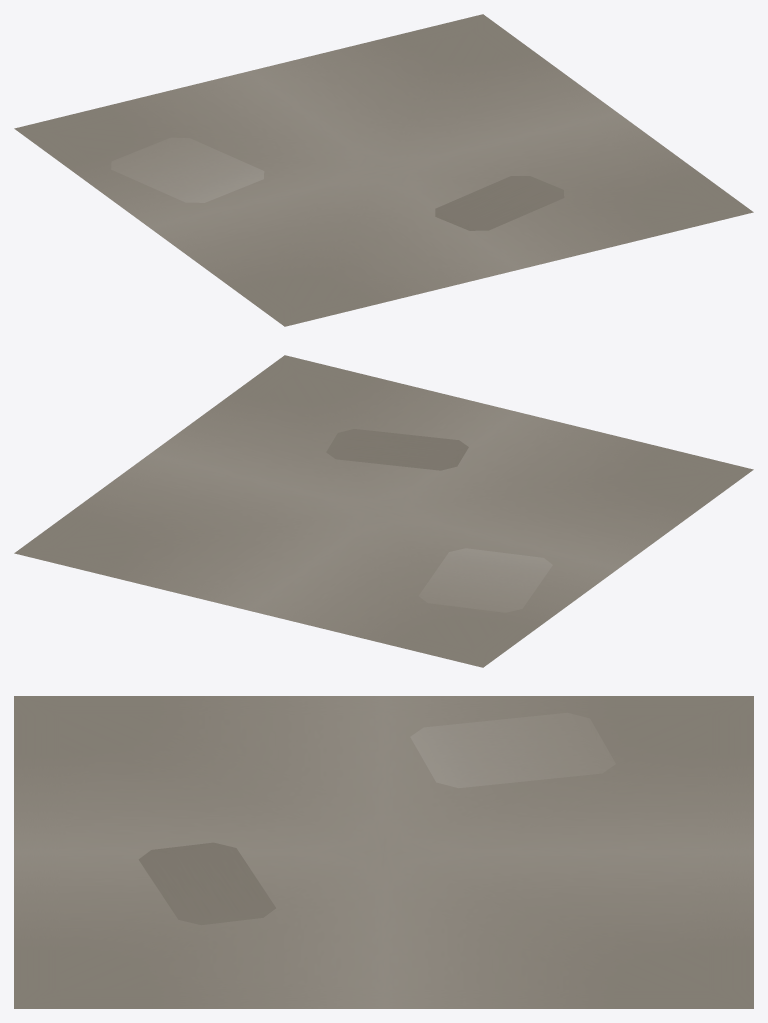
The model's file is path_park_x_section_01.fbx.
3 renders of one model, top to bottom at view 1: azimuth 30°, elevation 25°; view 2: azimuth 150°, elevation 25°; view 3: azimuth 270°, elevation 25°, orthographic. The views are drawn at different scales.
Parts seen in each view (by area): view 1: path_park_x_section; view 2: path_park_x_section; view 3: path_park_x_section.
Part boxes in pixels (bbox=[...]): path_park_x_section: bbox=[14, 14, 753, 326]; path_park_x_section: bbox=[14, 355, 753, 667]; path_park_x_section: bbox=[14, 696, 753, 1008].
Bounding box in the file's own units: 400 × 1.58 × 400.
